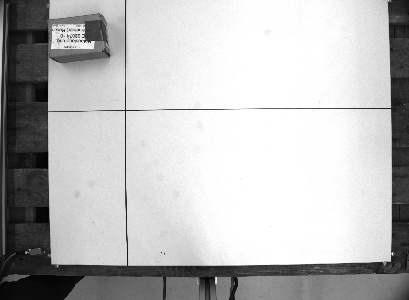b6: (44, 12, 113, 64)
